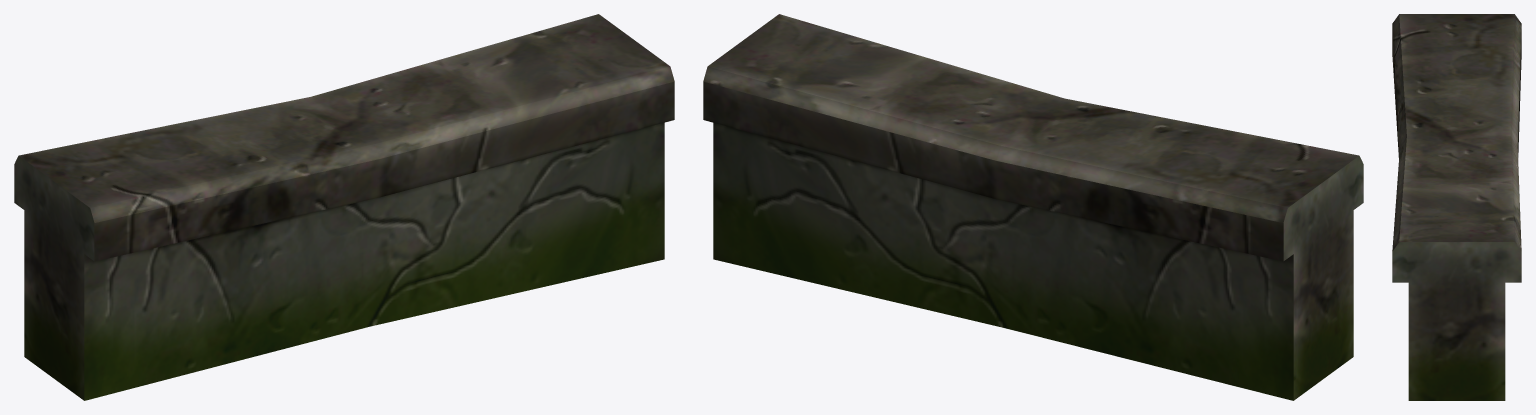
File: Wall02.FBX
3 views of the same model, side by side, from view 1: azimuth 30°, elevation 25°; view 2: azimuth 150°, elevation 25°; view 3: azimuth 270°, elevation 25° (orthographic). The views are drawn at different scales.
Parts seen in each view (by area): view 1: Wall02; view 2: Wall02; view 3: Wall02.
Boxes of the visible parts, bbox=[...] form: Wall02: bbox=[14, 14, 674, 400]; Wall02: bbox=[703, 14, 1363, 400]; Wall02: bbox=[1392, 14, 1521, 400].
Bounding box in the file's own units: 37.83 × 12.28 × 9.06.
